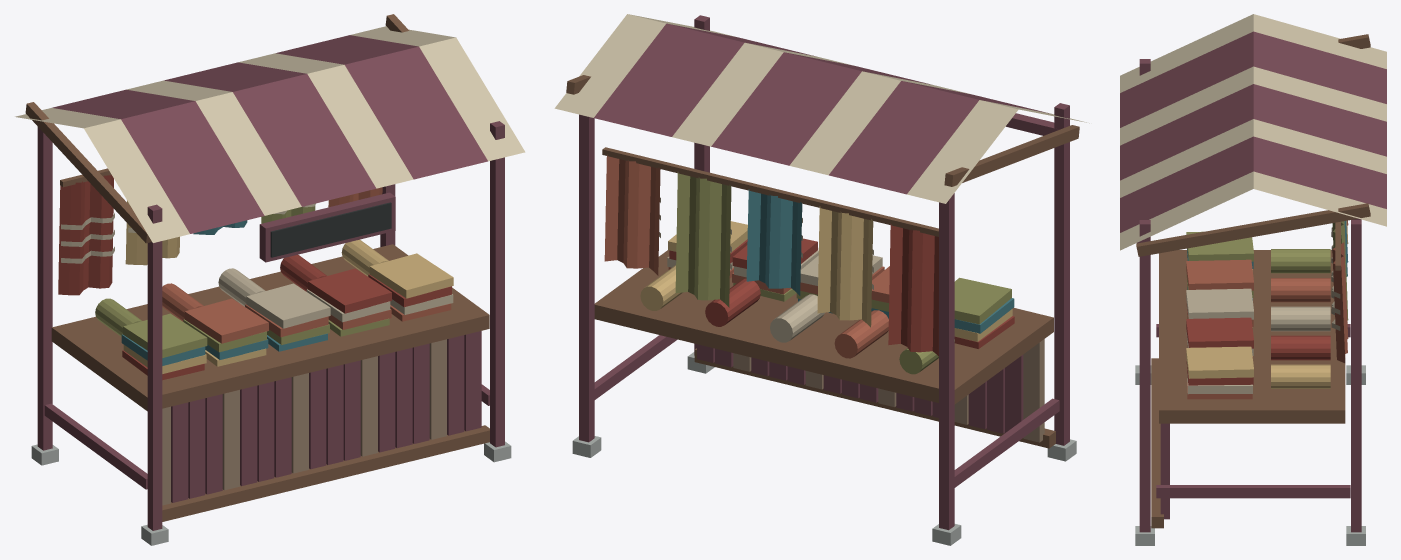
The model's file is textile-mid.glb.
The picture shows the model from 3 angles, left to right: view 1: azimuth 30°, elevation 25°; view 2: azimuth 150°, elevation 25°; view 3: azimuth 270°, elevation 25°; orthographic projection. The views are drawn at different scales.
Visible parts, largest first — view 1: Textile Market Stall; view 2: Textile Market Stall; view 3: Textile Market Stall.
Part boxes in pixels (bbox=[...]): Textile Market Stall: bbox=[15, 14, 525, 545]; Textile Market Stall: bbox=[554, 14, 1089, 545]; Textile Market Stall: bbox=[1120, 14, 1386, 545].
Bounding box in the file's own units: 2.98 × 2.86 × 1.92.
